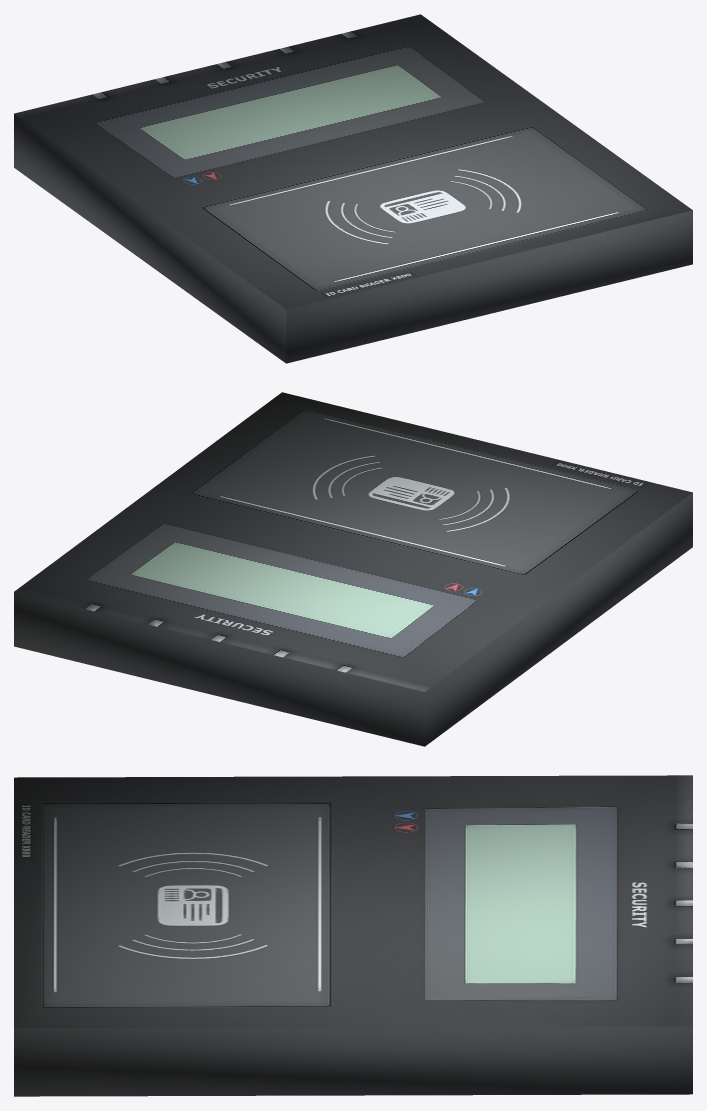
Rendered from Card_Pos.fbx.
The picture shows the model from 3 angles, top to bottom: view 1: azimuth 30°, elevation 25°; view 2: azimuth 150°, elevation 25°; view 3: azimuth 270°, elevation 25°; orthographic projection. The views are drawn at different scales.
Parts seen in each view (by area): view 1: Card_Pos; view 2: Card_Pos; view 3: Card_Pos.
Boxes of the visible parts, x1,y1,x2,y2 form: Card_Pos: [14, 14, 692, 363]; Card_Pos: [14, 392, 692, 746]; Card_Pos: [14, 775, 692, 1096].
Bounding box in the file's own units: 72.42 × 9.13 × 82.2.
Materials: 1 (1 with a texture image).
